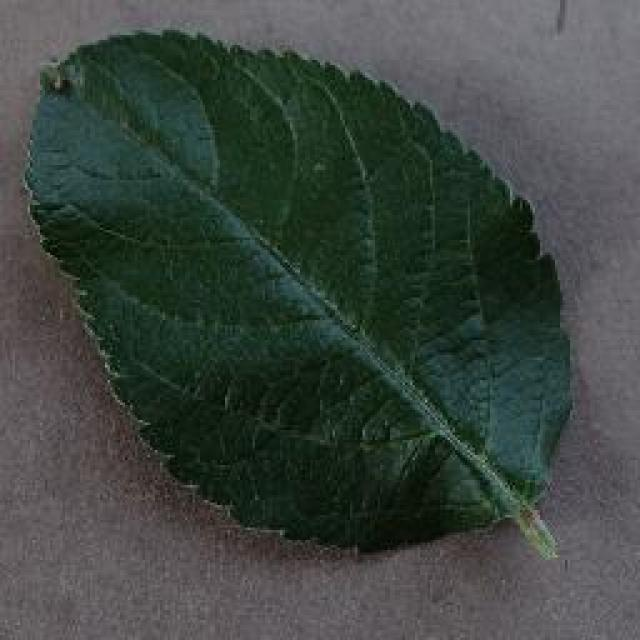apple healthy: (20, 22, 575, 558)
